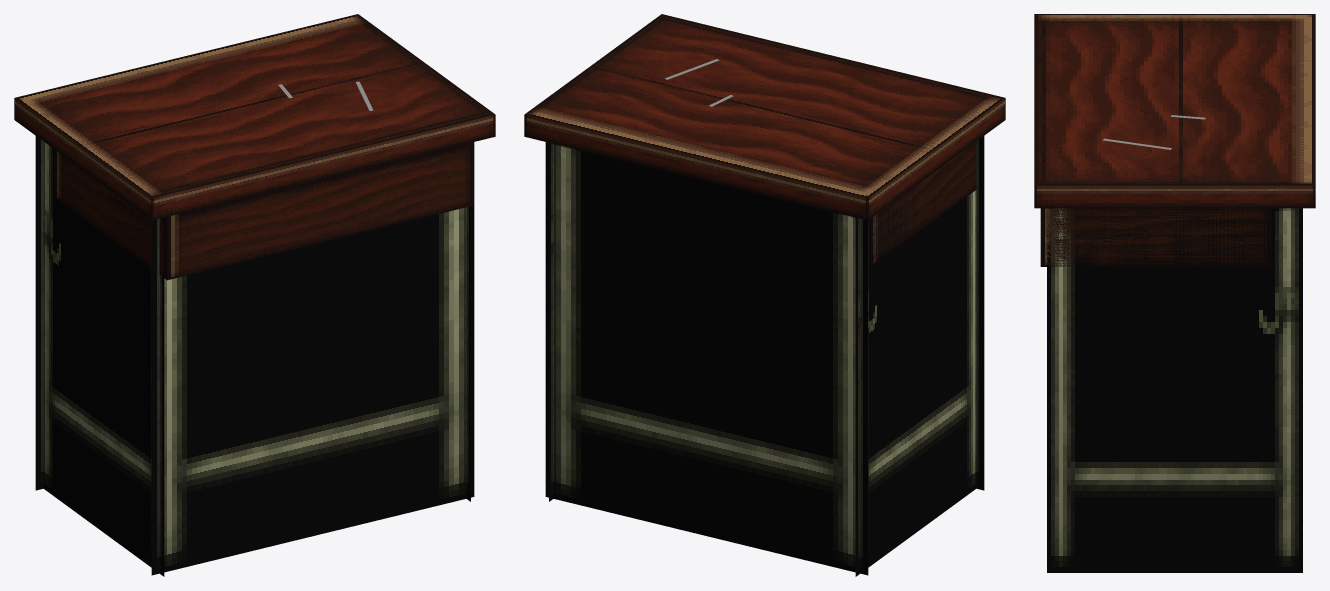
File: prop_desk-1.glb
3 renders of one model, left to right at view 1: azimuth 30°, elevation 25°; view 2: azimuth 150°, elevation 25°; view 3: azimuth 270°, elevation 25°, orthographic. The views are drawn at different scales.
Visible parts, largest first — view 1: prop_desk-1; view 2: prop_desk-1; view 3: prop_desk-1.
Boxes of the visible parts, left/top/right/bottom form: prop_desk-1: left=14, top=14, right=495, bottom=576; prop_desk-1: left=524, top=14, right=1005, bottom=576; prop_desk-1: left=1034, top=14, right=1315, bottom=572.
Size of the model in its own units: 0.624 by 0.6739 by 0.432.
Materials: 3 (3 with a texture image).
